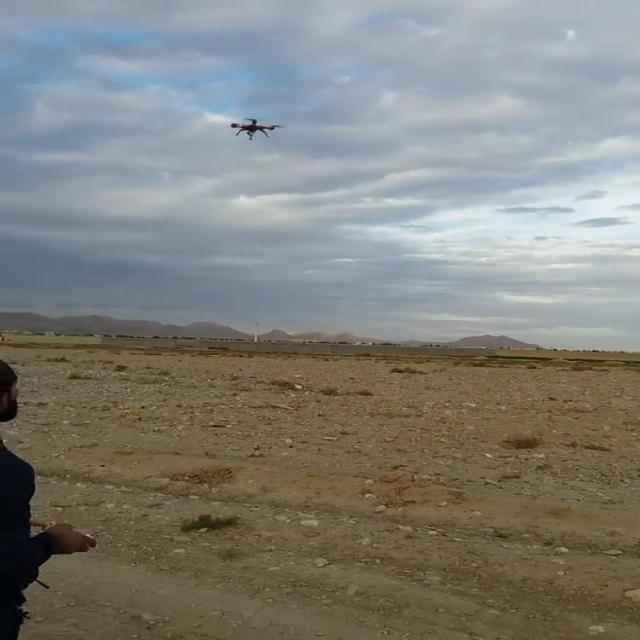drone: (224, 112, 286, 142)
